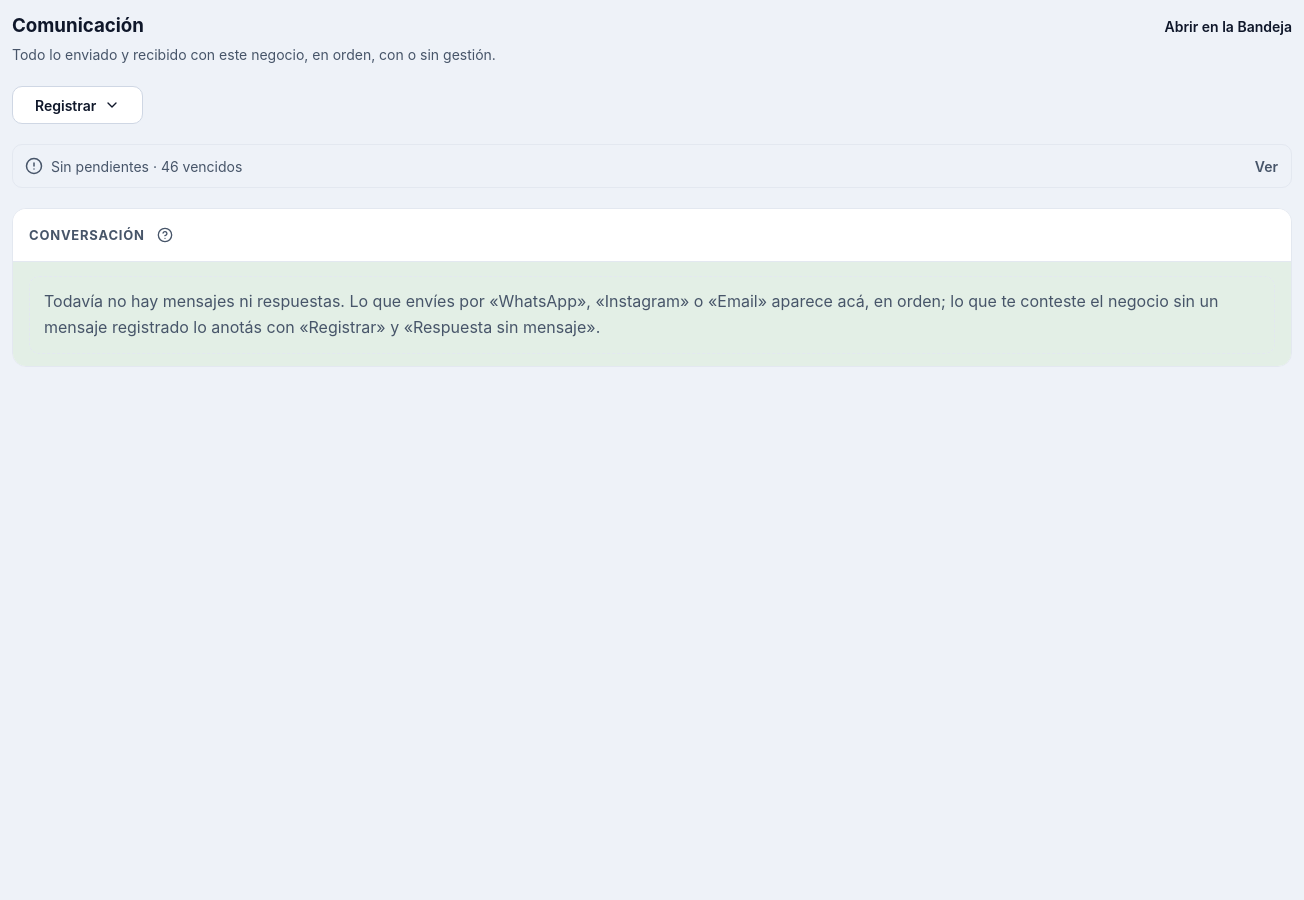
Test case: «Requiere acción» strip (spec 100 §5) › says «Se muestran X de Y» in «Vencidos» when the server cut a list
Expected: the element "Conversación" is shown, [12,208,1292,367]
Click the button "Ver".
click(1266, 166)  # box [1246,148,1287,186]
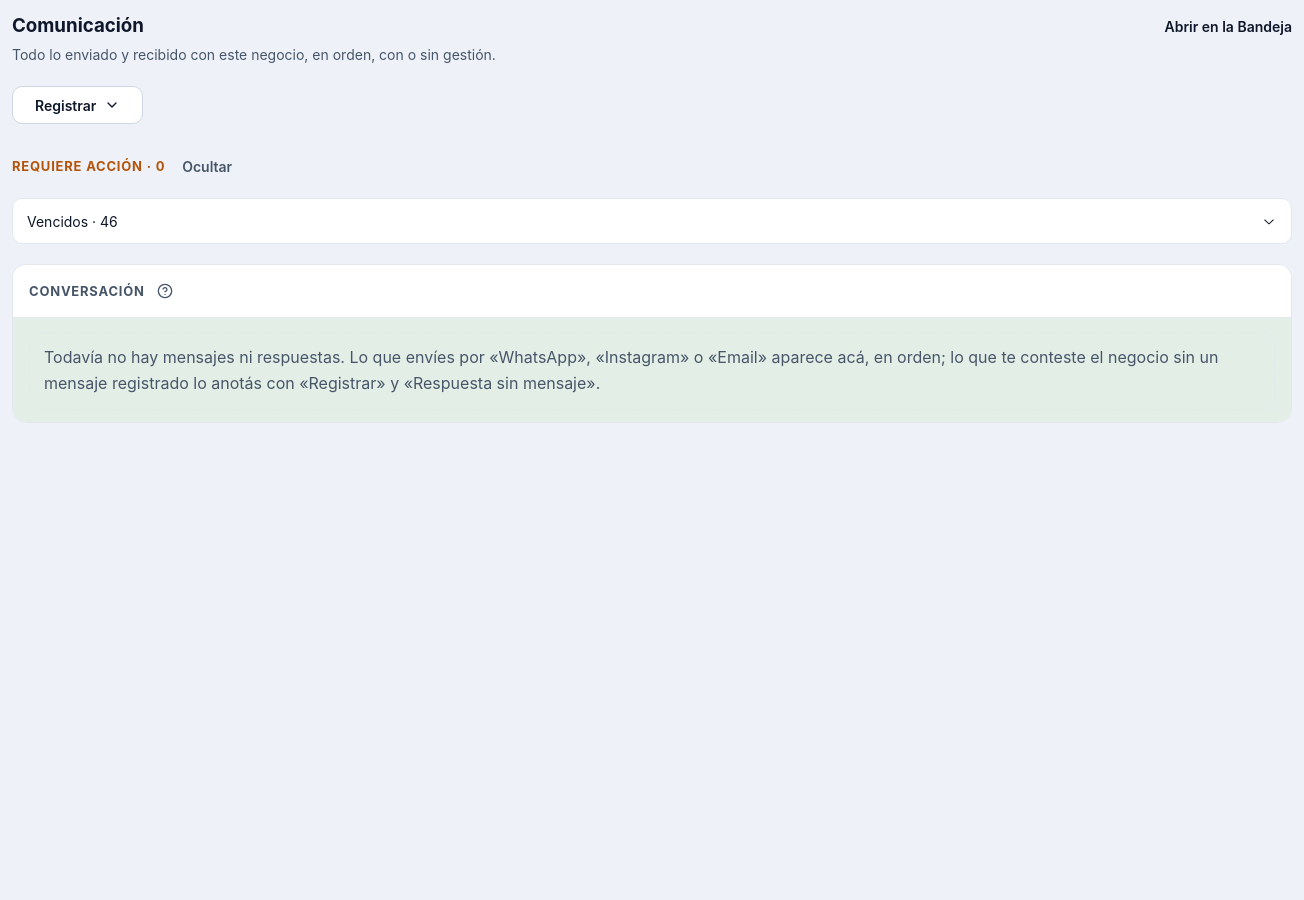
Click the button "Vencidos · 46".
click(64, 221)  # box [13,200,1291,244]
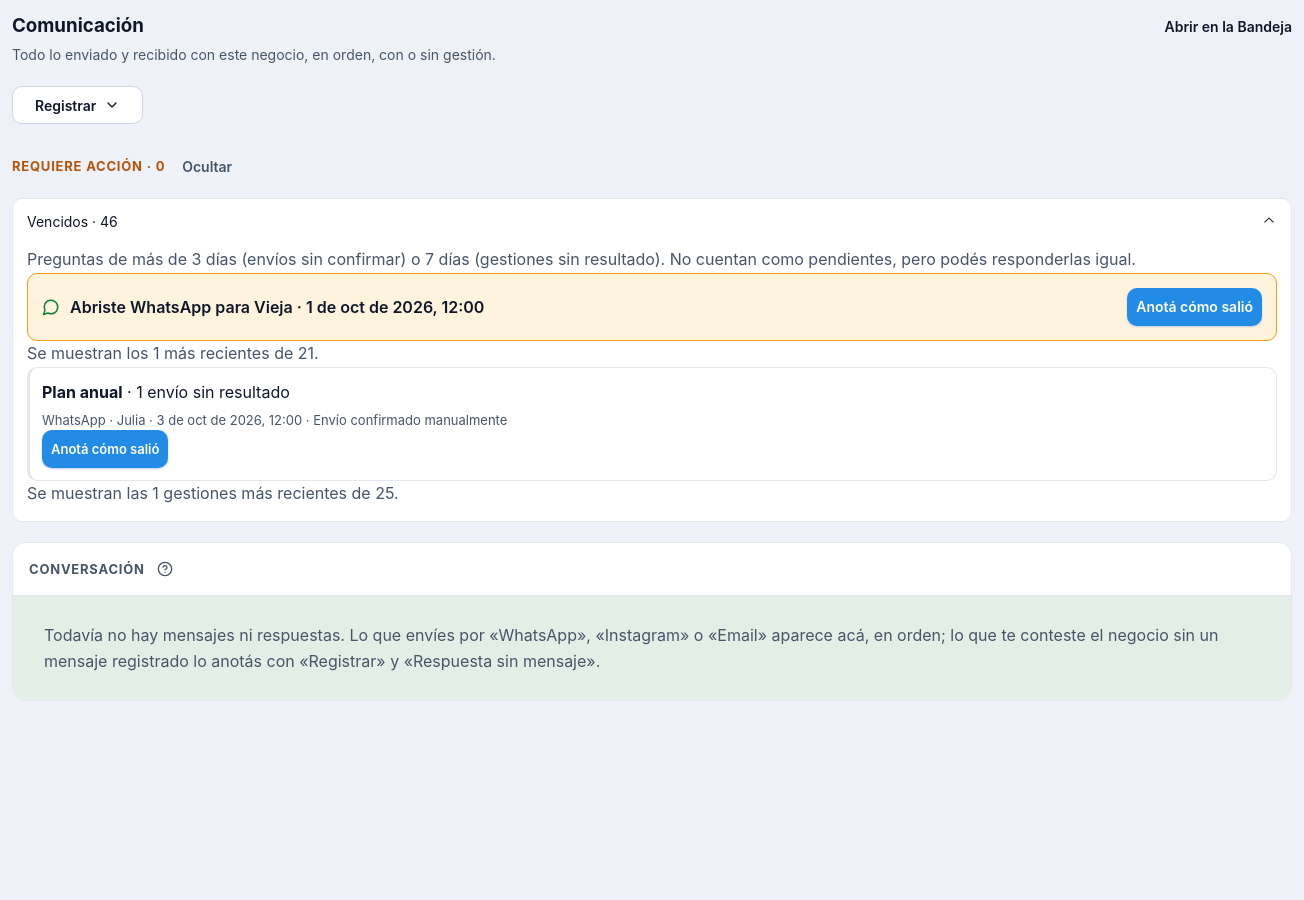
Expected: the text "Se muestran los 1 más recientes de 21." is shown, [27,343,319,363]
Expected: the text "Se muestran las 1 gestiones más recientes de 25." is shown, [27,484,399,504]
